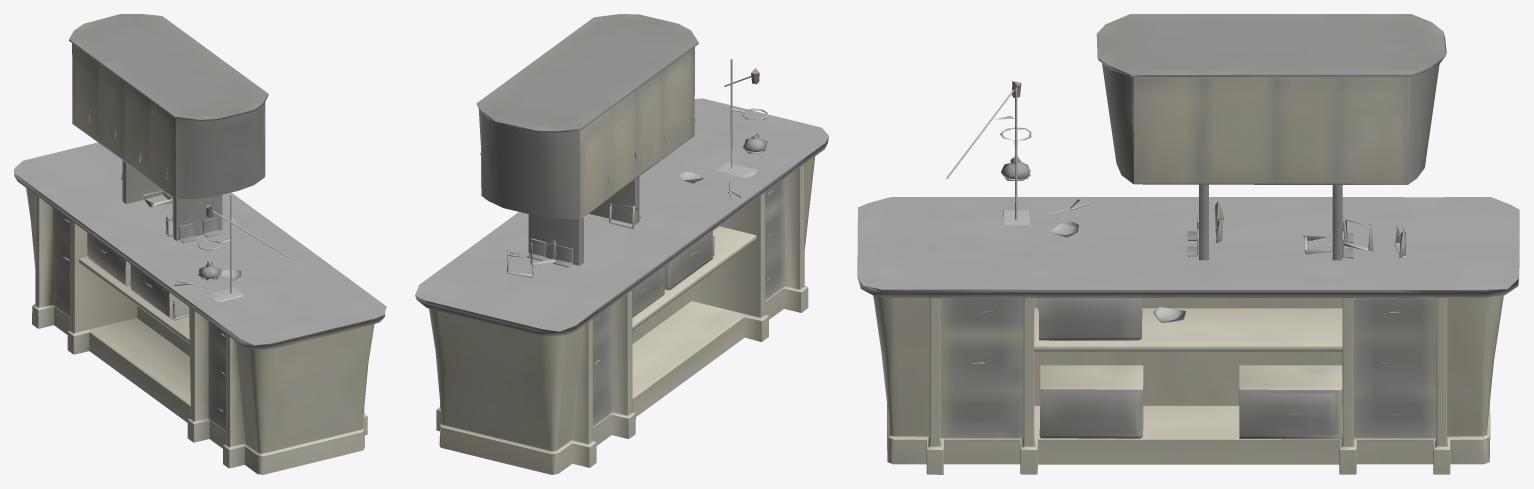
File: StorageBox_ChemBench_C.glb
3 views of the same model, side by side, from view 1: azimuth 30°, elevation 25°; view 2: azimuth 150°, elevation 25°; view 3: azimuth 270°, elevation 25° (orthographic). The views are drawn at different scales.
Parts seen in each view (by area): view 1: SM_Chemistry_Bench; view 2: SM_Chemistry_Bench; view 3: SM_Chemistry_Bench.
Boxes of the visible parts, x1,y1,x2,y2 form: SM_Chemistry_Bench: (14,14,386,474); SM_Chemistry_Bench: (415,14,828,474); SM_Chemistry_Bench: (857,14,1519,474).
Bounding box in the file's own units: 1.28 × 2.48 × 3.86.
1 material, 1 textured.
